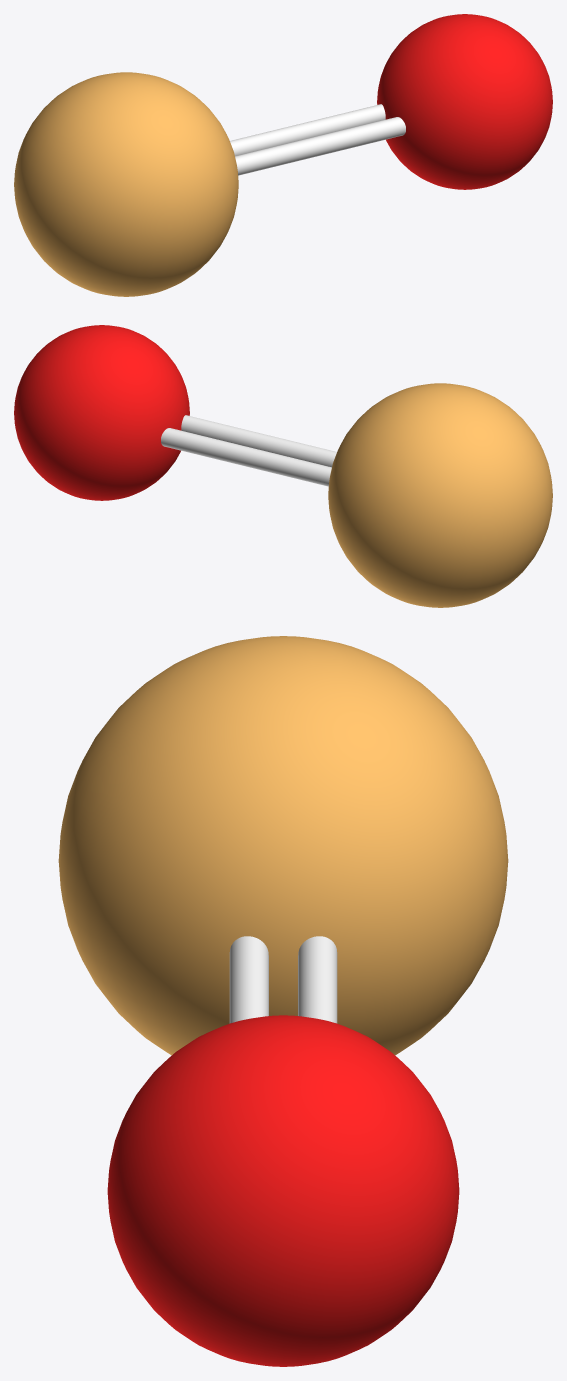
File: calcium_oxide.fbx
3 renders of one model, top to bottom at view 1: azimuth 30°, elevation 25°; view 2: azimuth 150°, elevation 25°; view 3: azimuth 270°, elevation 25°, orthographic. The views are drawn at different scales.
Visible parts, largest first — view 1: calcium_oxide; view 2: calcium_oxide; view 3: calcium_oxide.
Part boxes in pixels (x1,y1,x2,y2): calcium_oxide: [14, 14, 552, 296]; calcium_oxide: [14, 325, 552, 607]; calcium_oxide: [58, 636, 508, 1366].
Size of the model in its own units: 121 by 46 by 46.
